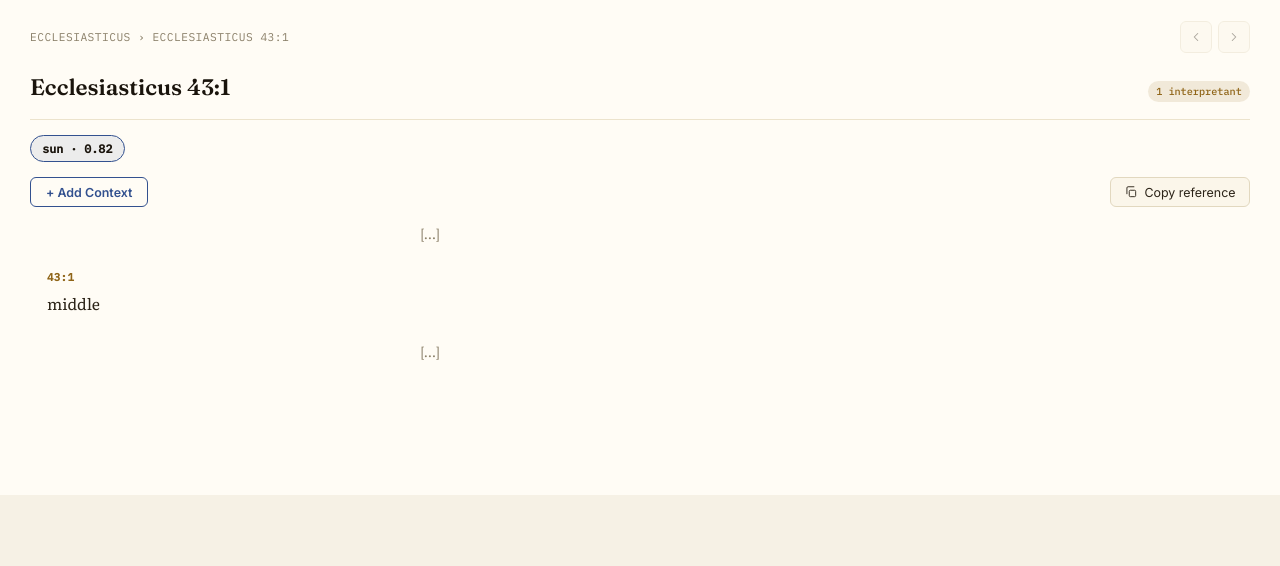
Scenario: Add Context › stays extendable when only one edge is still bounded
Click the button "+ Add Context" at (89, 192), box [30,177,148,208]
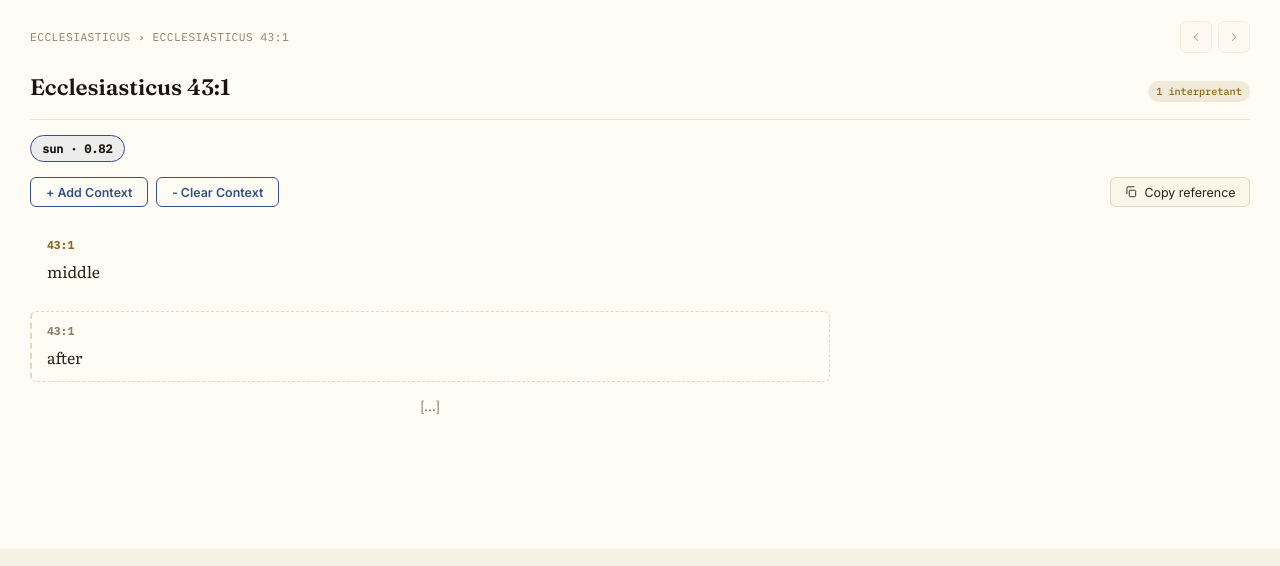
expect the text "after" is shown: met, box [47,345,83,369]
